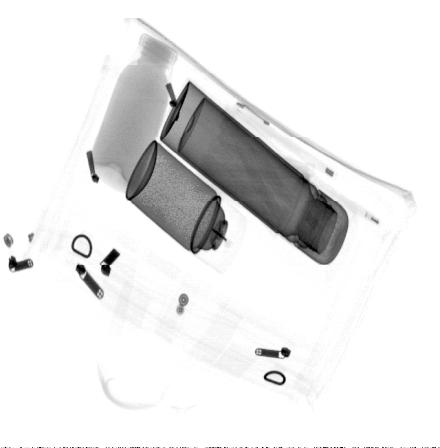Sprayer: (124, 140, 248, 276)
